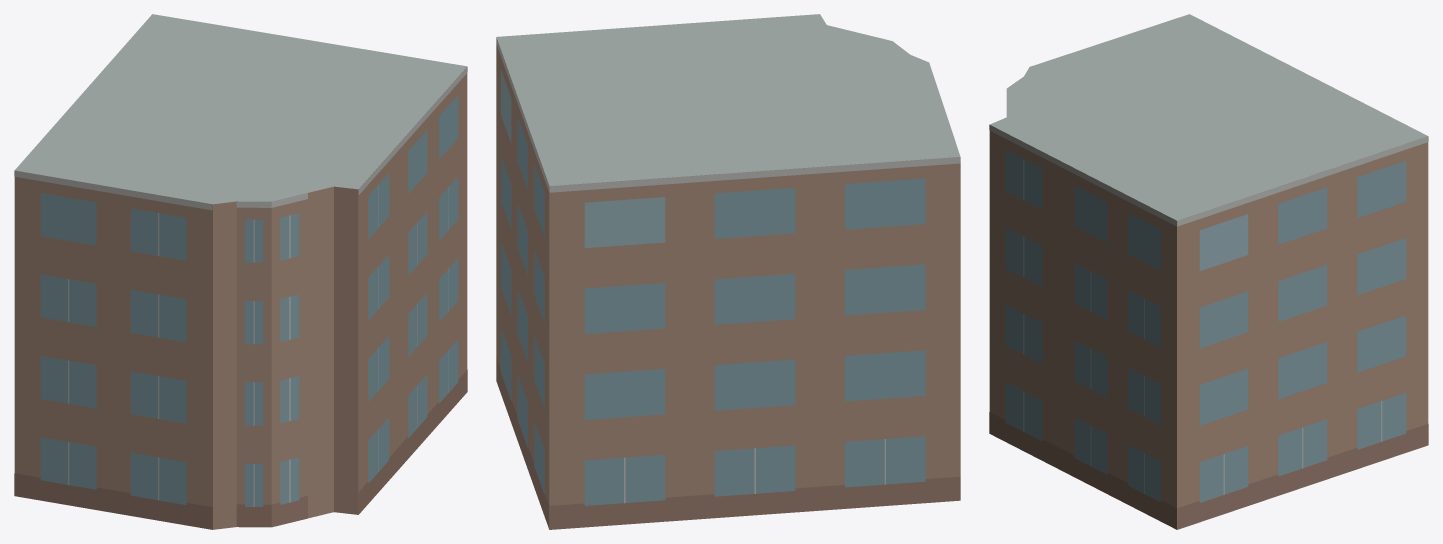
File: survey-upis-32834735.glb
3 renders of one model, left to right at view 1: azimuth 30°, elevation 25°; view 2: azimuth 150°, elevation 25°; view 3: azimuth 270°, elevation 25°, orthographic. The views are drawn at different scales.
Parts seen in each view (by area): view 1: survey-upis-32834735.tmp; view 2: survey-upis-32834735.tmp; view 3: survey-upis-32834735.tmp.
Boxes of the visible parts, x1=… form: survey-upis-32834735.tmp: x1=14, y1=14, x2=467, y2=529; survey-upis-32834735.tmp: x1=496, y1=14, x2=960, y2=529; survey-upis-32834735.tmp: x1=989, y1=14, x2=1428, y2=529.
Size of the model in its own units: 18.37 by 12.8 by 16.48.
